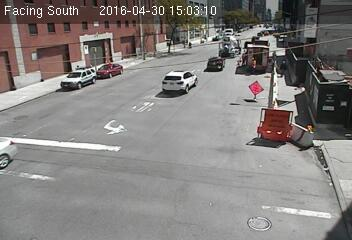neg: (245, 121, 267, 150), (206, 74, 223, 96), (166, 90, 179, 107)
pos: (275, 57, 289, 77), (245, 56, 258, 72)
